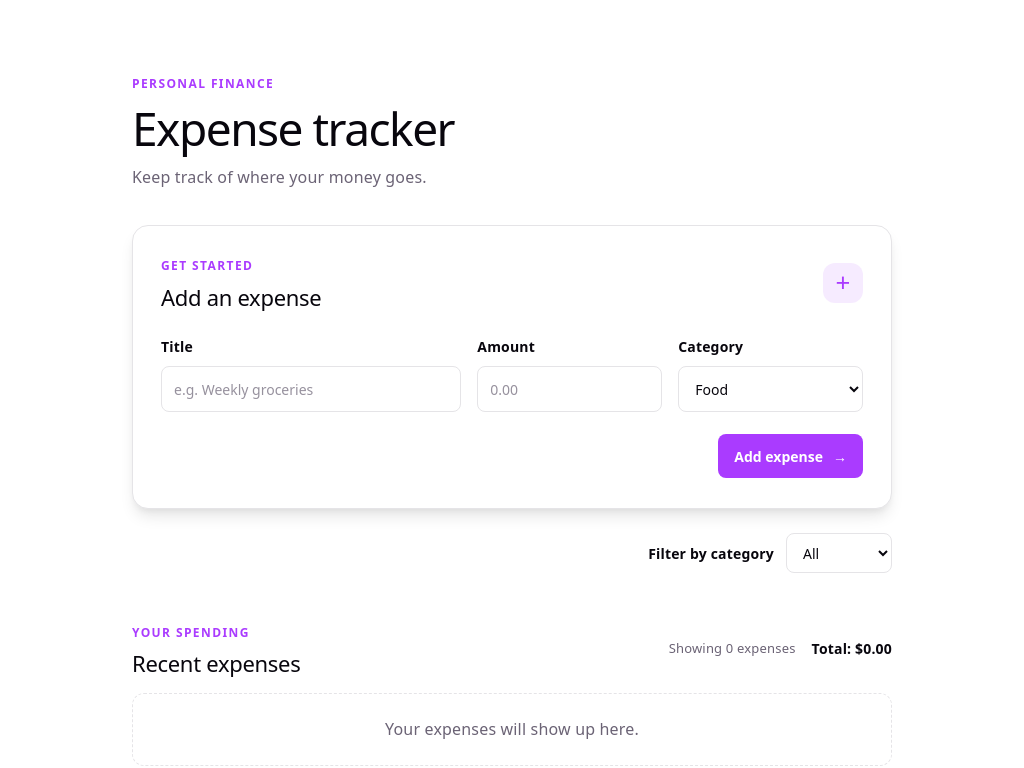
it: Expense tracker › deletes an expense and updates the summary
This screenshot has width=1024, height=768.
Type "Coffee" into the field with test id "expense-title-input" at x=311, y=389, box [161,366,461,412]
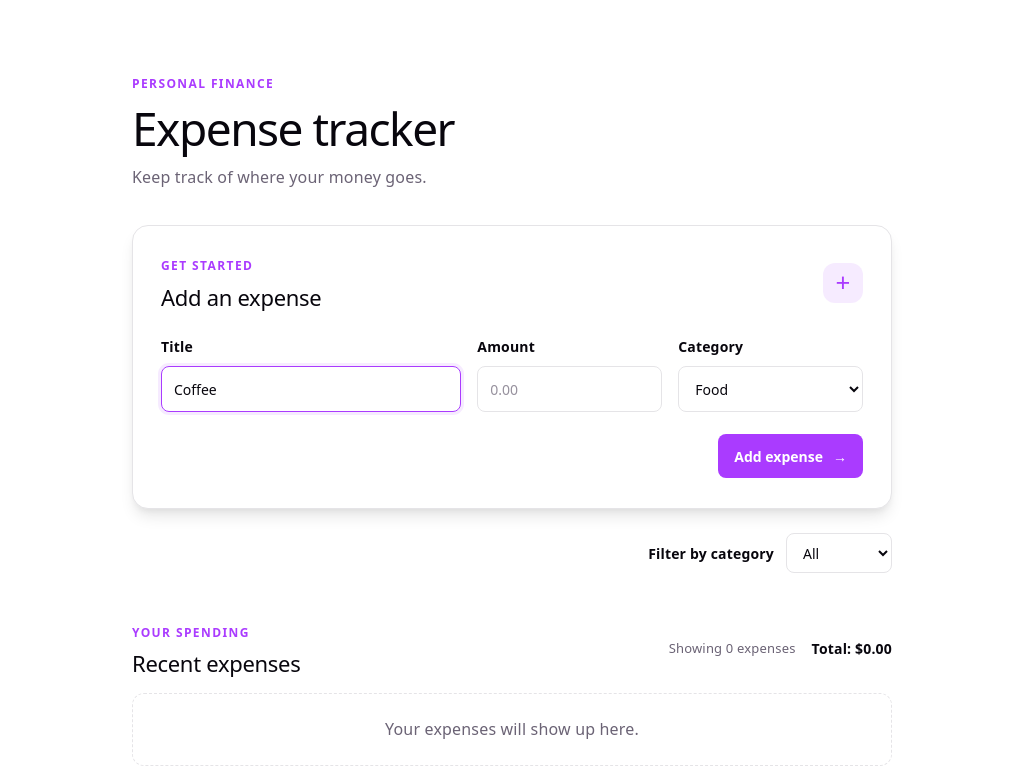
Type "4.25" into the number field with test id "expense-amount-input" at x=570, y=389, box [477,366,662,412]
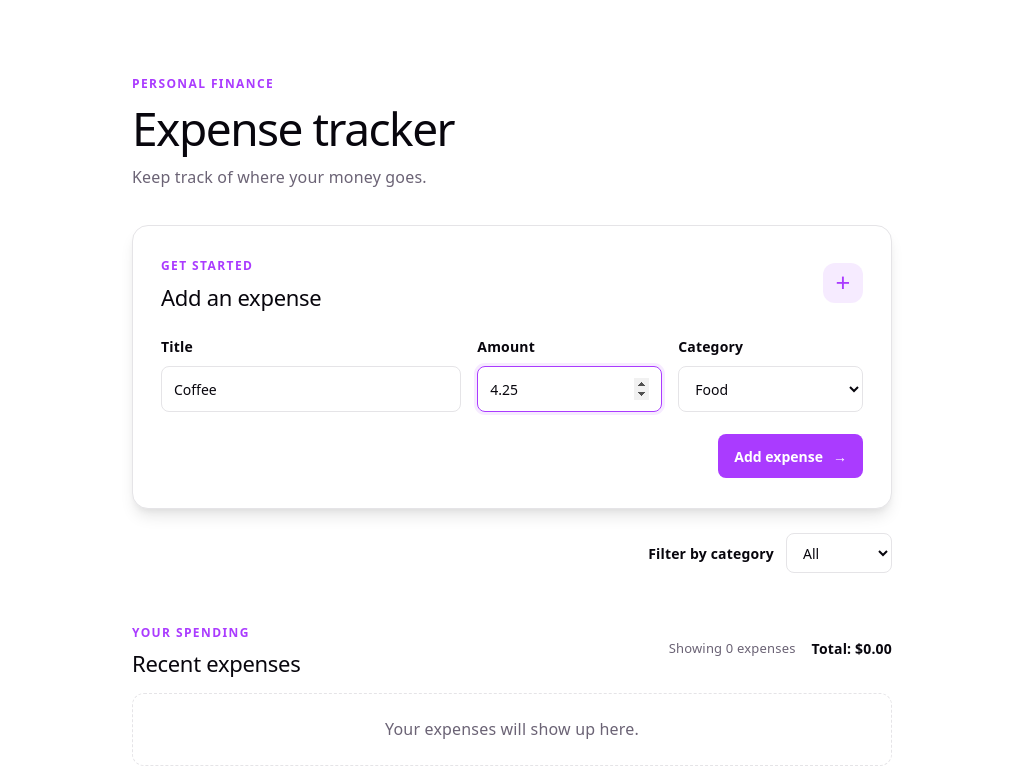
Click the button with test id "add-expense-button" at x=791, y=456, box [718,434,863,478]
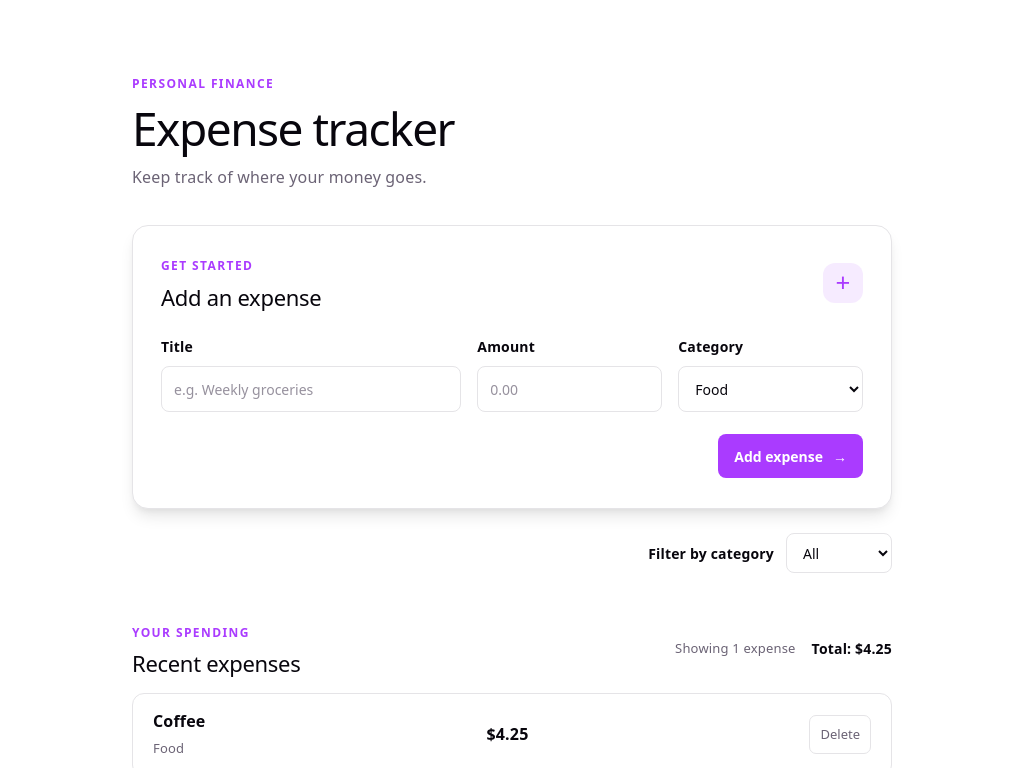
Click the button with test id "delete-expense-button" at x=841, y=735, box [810,715,872,754]
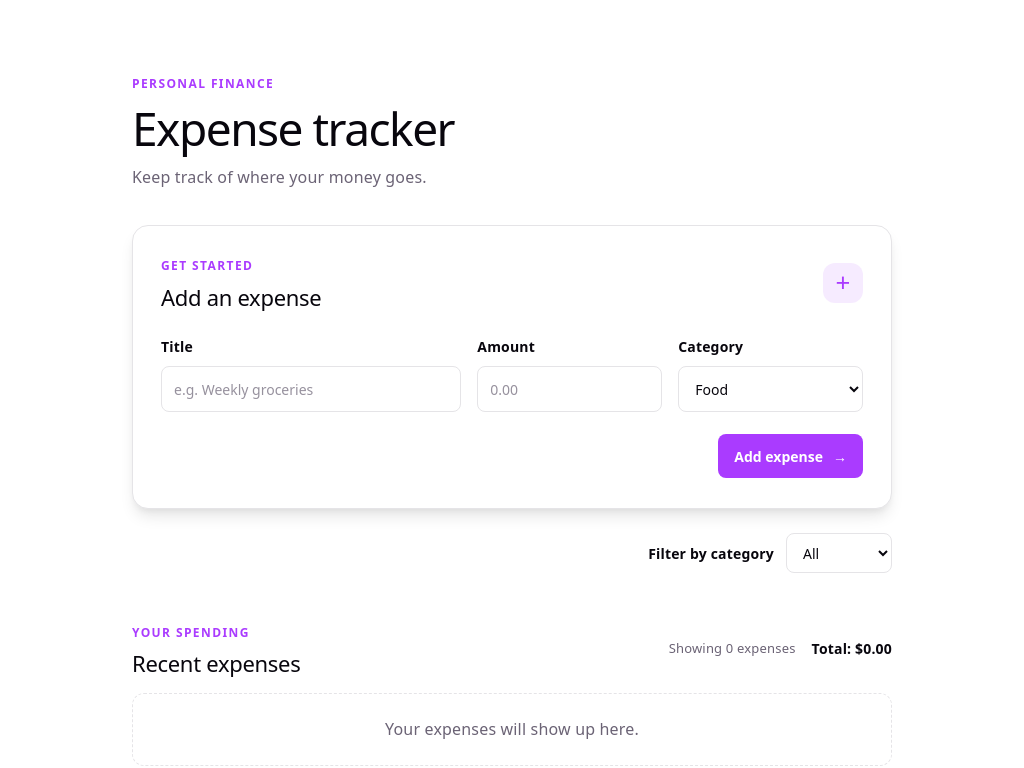
Now the text "Your expenses will show up here." is shown, box [132,692,892,766]
Now the text with test id "empty-state" reads "Your expenses will show up here.", box [385,718,639,740]
Now the text with test id "expense-count" reads "Showing 0 expenses", box [669,637,796,660]
